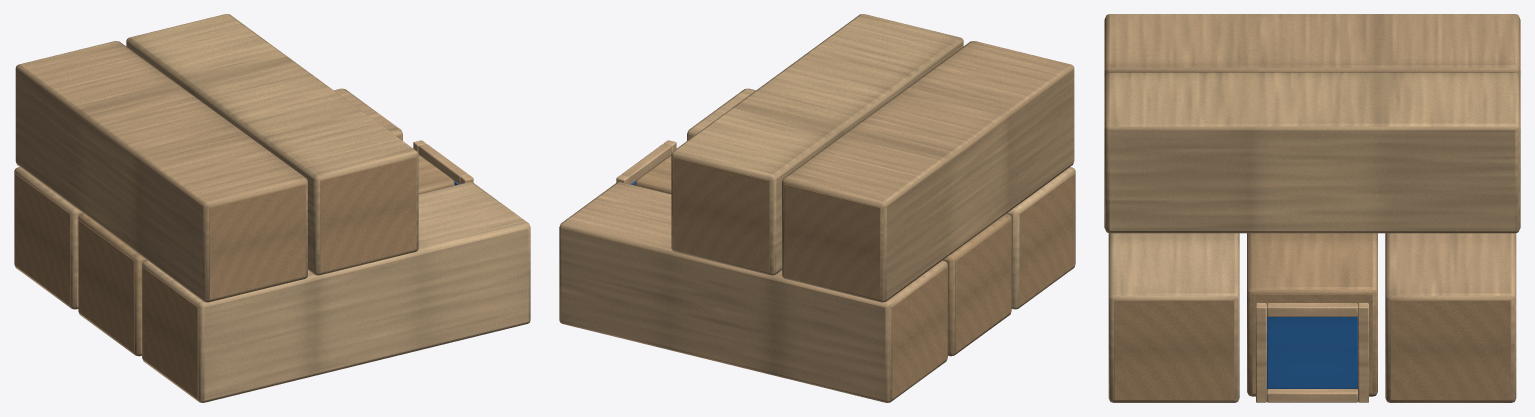
Rendered from 4-crossed-block-layers-2-1.fbx.
3 renders of one model, left to right at view 1: azimuth 30°, elevation 25°; view 2: azimuth 150°, elevation 25°; view 3: azimuth 270°, elevation 25°, orthographic. The views are drawn at different scales.
Parts seen in each view (by area): view 1: crossed-block-layers-2-1; view 2: crossed-block-layers-2-1; view 3: crossed-block-layers-2-1.
Boxes of the visible parts, x1,y1,x2,y2 form: crossed-block-layers-2-1: (14,14,530,402); crossed-block-layers-2-1: (559,14,1075,402); crossed-block-layers-2-1: (1104,14,1520,402).
Size of the model in its own units: 5667 by 3200 by 5515.
Materials: 1 (1 with a texture image).
